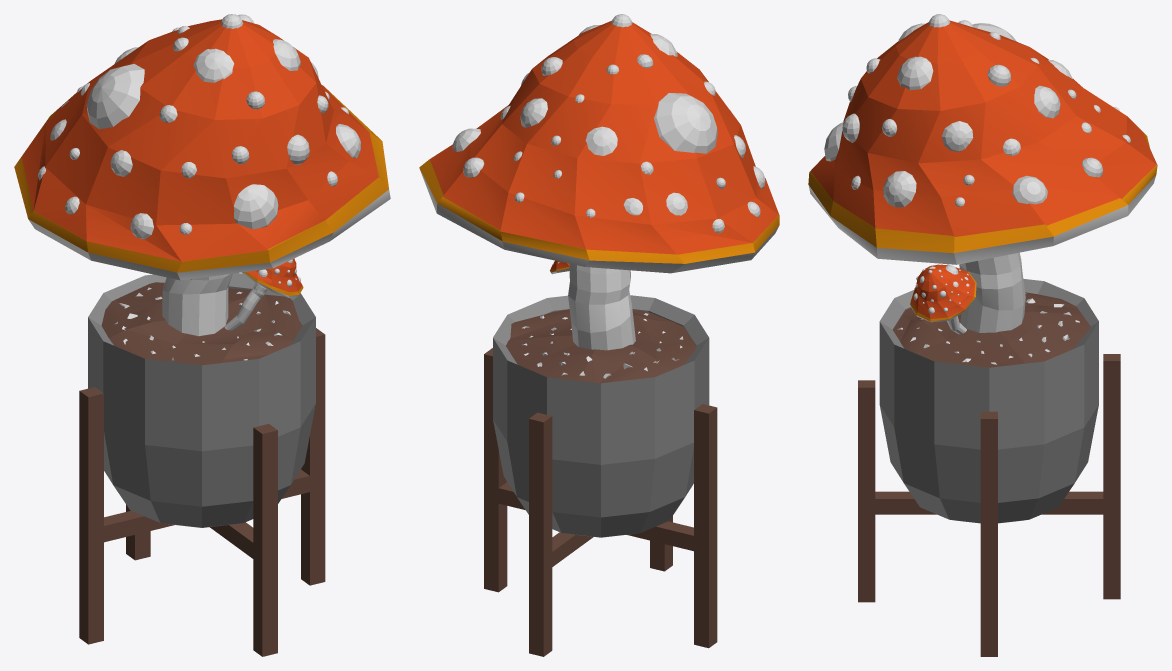
3 views of the same model, side by side, from view 1: azimuth 30°, elevation 25°; view 2: azimuth 150°, elevation 25°; view 3: azimuth 270°, elevation 25° (orthographic). The views are drawn at different scales.
Visible parts, largest first — view 1: node_MeshObject-345107456-PolyPaper21, node_MeshObject-2061344768-PolyPaper21; view 2: node_MeshObject-345107456-PolyPaper21, node_MeshObject-2061344768-PolyPaper21; view 3: node_MeshObject-345107456-PolyPaper21, node_MeshObject-2061344768-PolyPaper21.
Boxes of the visible parts, x1=… form: node_MeshObject-345107456-PolyPaper21: x1=21, y1=14, x2=378, y2=656; node_MeshObject-2061344768-PolyPaper21: x1=14, y1=86, x2=390, y2=527; node_MeshObject-345107456-PolyPaper21: x1=429, y1=14, x2=779, y2=656; node_MeshObject-2061344768-PolyPaper21: x1=419, y1=151, x2=779, y2=537; node_MeshObject-345107456-PolyPaper21: x1=810, y1=14, x2=1157, y2=656; node_MeshObject-2061344768-PolyPaper21: x1=808, y1=119, x2=1157, y2=523.
Bounding box in the file's own units: 3.28 × 5.84 × 3.12.
